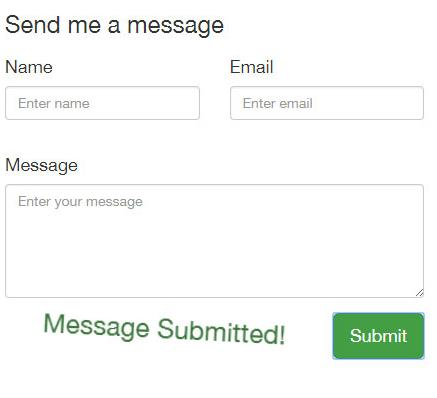button: (332, 310, 427, 361)
field: (4, 182, 427, 300), (4, 84, 201, 121), (228, 85, 425, 121)
field_with_label: (1, 155, 431, 303), (225, 57, 429, 124), (2, 58, 204, 122)
